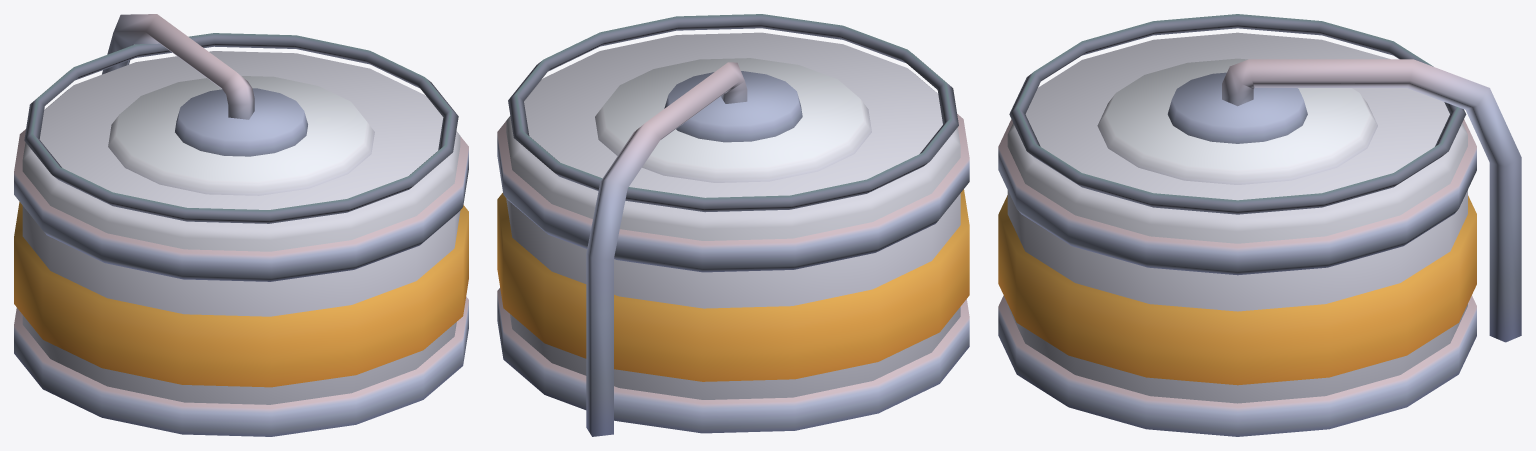
Rendered from ind_detail_tank_large.glb.
3 views of the same model, side by side, from view 1: azimuth 30°, elevation 25°; view 2: azimuth 150°, elevation 25°; view 3: azimuth 270°, elevation 25° (orthographic). The views are drawn at different scales.
Visible parts, largest first — view 1: detail-tank-large; view 2: detail-tank-large; view 3: detail-tank-large.
Part boxes in pixels (x1,y1,x2,y2): detail-tank-large: (14,14,468,436); detail-tank-large: (497,14,969,436); detail-tank-large: (998,14,1521,436).
Size of the model in its own units: 1.51 by 0.9616 by 1.65.
1 material, 1 textured.
